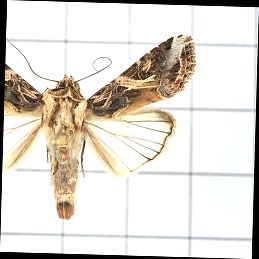Spodoptera litura: (3, 30, 196, 221)
